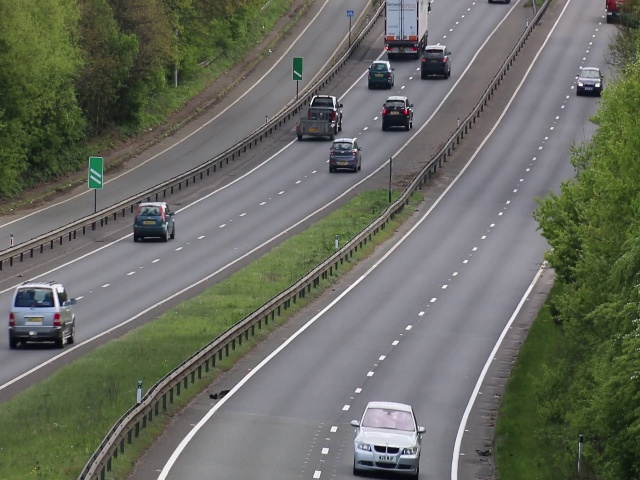car: (352, 396, 421, 473), (8, 281, 77, 346), (388, 1, 431, 58), (129, 198, 175, 244), (297, 94, 342, 138), (377, 94, 417, 129), (326, 133, 361, 173), (419, 44, 452, 81), (575, 60, 602, 99), (365, 59, 396, 90)
